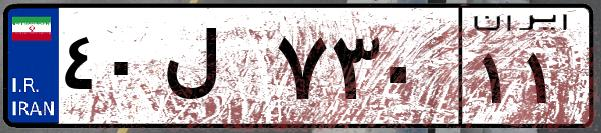0: (385, 28, 445, 110), (110, 28, 158, 98)
1: (475, 38, 525, 113), (525, 38, 570, 115)
3: (330, 28, 385, 110)
4: (57, 26, 110, 100)
7: (270, 28, 330, 110)
ل: (158, 20, 270, 120)
